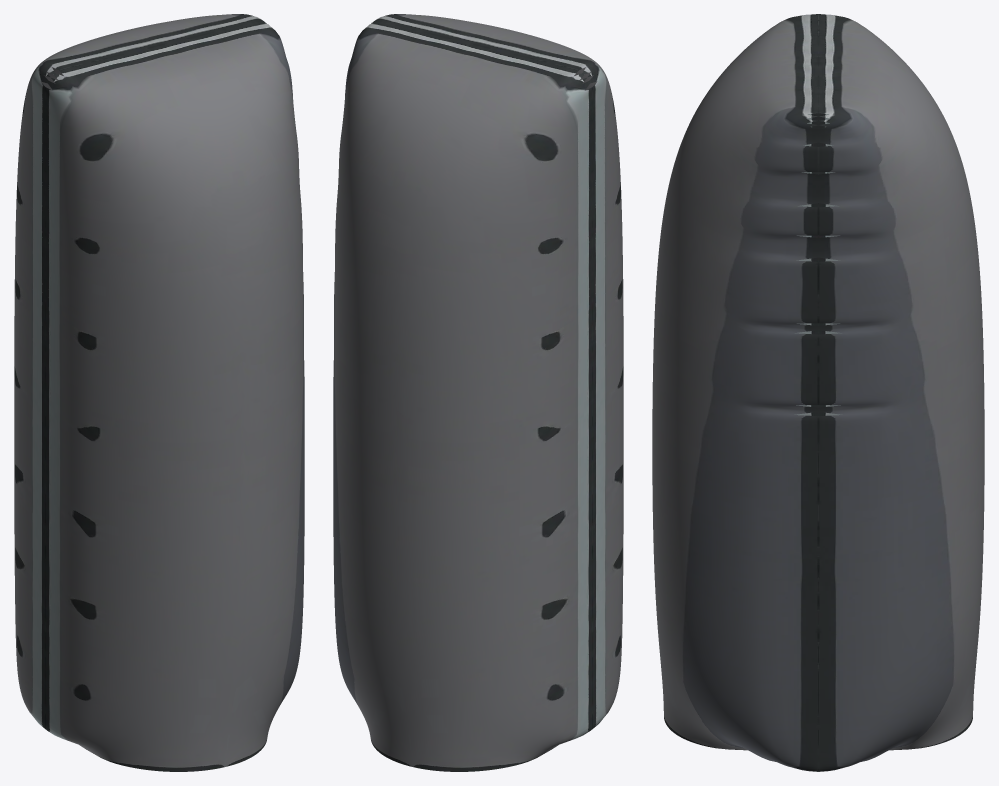
The model's file is riveted_wall.glb.
3 views of the same model, side by side, from view 1: azimuth 30°, elevation 25°; view 2: azimuth 150°, elevation 25°; view 3: azimuth 270°, elevation 25° (orthographic).
Visible parts, largest first — view 1: riveted_wall; view 2: riveted_wall; view 3: riveted_wall.
Boxes of the visible parts, left/top/right/bottom form: riveted_wall: left=14, top=14, right=304, bottom=771; riveted_wall: left=333, top=14, right=623, bottom=771; riveted_wall: left=652, top=14, right=984, bottom=771.
Bounding box in the file's own units: 0.9701 × 2.69 × 1.23.
Materials: 1 (1 with a texture image).
